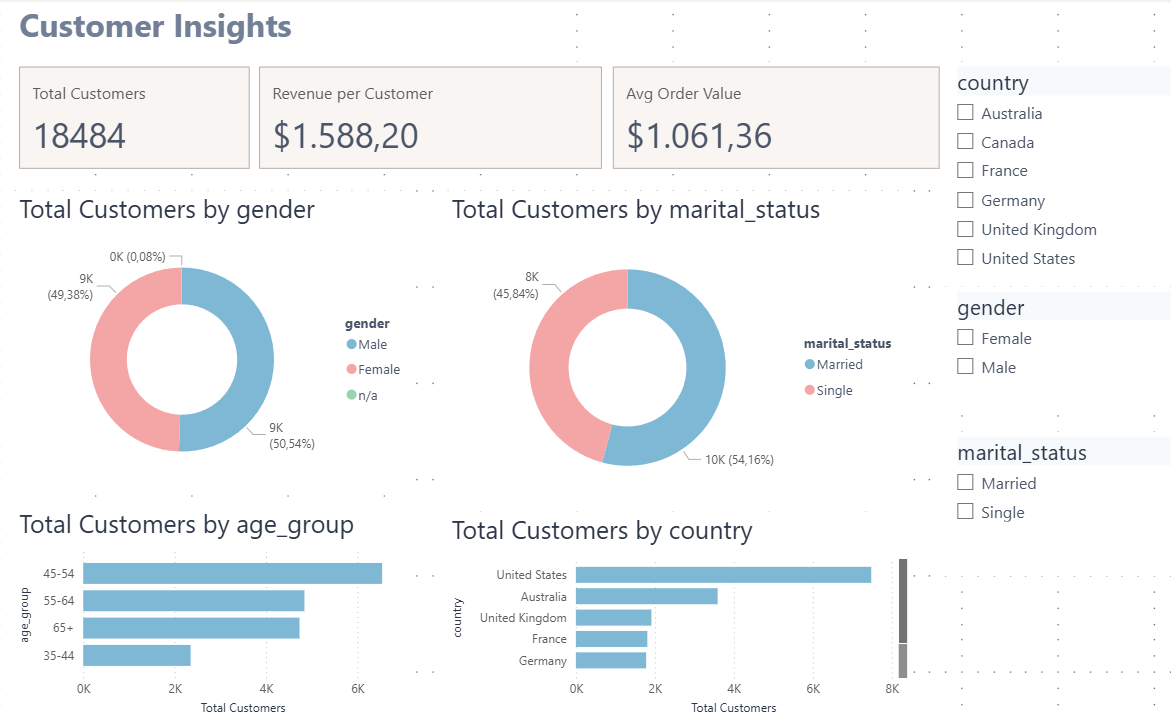

The dashboard page shown, as its layout file describes it:
{"tool":"powerbi","page":{"name":"Customer Insights","canvas":[1280,720],"ordinal":2},"visuals":[{"type":"textbox","box":[16,0,496,64],"z":0},{"type":"cardVisual","fields":{"Data":["_Measures.Total Customers"]},"box":[16,64,240,112],"z":1000},{"type":"cardVisual","fields":{"Data":["_Measures.Revenue per Customer"]},"box":[256,64,352,112],"z":2000},{"type":"cardVisual","fields":{"Data":["_Measures.Avg Order Value"]},"box":[608,64,336,112],"z":3000},{"type":"donutChart","fields":{"Category":["gold dim_customers.gender"],"Y":["_Measures.Total Customers"]},"box":[16,192,400,304],"z":4000},{"type":"donutChart","fields":{"Category":["gold dim_customers.marital_status"],"Y":["_Measures.Total Customers"]},"box":[448,192,464,320],"z":5000},{"type":"barChart","fields":{"Y":["_Measures.Total Customers"],"Category":["gold dim_customers.create_date.Variation.Date Hierarchy.Year"]},"box":[16,512,432,208],"z":6000},{"type":"lineChart","fields":{"Category":["gold dim_customers.create_date.Variation.Date Hierarchy.Year","gold dim_customers.create_date.Variation.Date Hierarchy.Quarter","gold dim_customers.create_date.Variation.Date Hierarchy.Month","gold dim_customers.create_date.Variation.Date Hierarchy.Day"],"Y":["_Measures.Total Customers"]},"box":[448,512,464,208],"z":7000},{"type":"slicer","fields":{"Values":["gold dim_customers.country"]},"box":[944,64,336,224],"z":8000},{"type":"slicer","fields":{"Values":["gold dim_customers.gender"]},"box":[944,288,336,128],"z":9000},{"type":"slicer","fields":{"Values":["gold dim_customers.marital_status"]},"box":[944,432,304,144],"z":10000}]}

Visuals, with their boxes on the page's 1280x720 design canvas (x1, y1, x2, y2). These are canvas units, not pixel positions in the 1171x718 screenshot, which may show the page scaled, cropped or inside an application window:
textbox: <box>16,0,512,64</box>
cardVisual - _Measures.Total Customers: <box>16,64,256,176</box>
cardVisual - _Measures.Revenue per Customer: <box>256,64,608,176</box>
cardVisual - _Measures.Avg Order Value: <box>608,64,944,176</box>
donutChart - gold dim_customers.gender x _Measures.Total Customers: <box>16,192,416,496</box>
donutChart - gold dim_customers.marital_status x _Measures.Total Customers: <box>448,192,912,512</box>
barChart - _Measures.Total Customers x gold dim_customers.create_date.Variation.Date Hierarchy.Year: <box>16,512,448,720</box>
lineChart - gold dim_customers.create_date.Variation.Date Hierarchy.Year x gold dim_customers.create_date.Variation.Date Hierarchy.Quarter: <box>448,512,912,720</box>
slicer - gold dim_customers.country: <box>944,64,1280,288</box>
slicer - gold dim_customers.gender: <box>944,288,1280,416</box>
slicer - gold dim_customers.marital_status: <box>944,432,1248,576</box>
